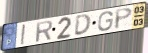2: (57, 16, 73, 41)
D: (73, 13, 93, 36)
G: (97, 10, 115, 32)
I: (20, 23, 26, 46)
P: (114, 6, 134, 31)
R: (36, 19, 54, 43)
